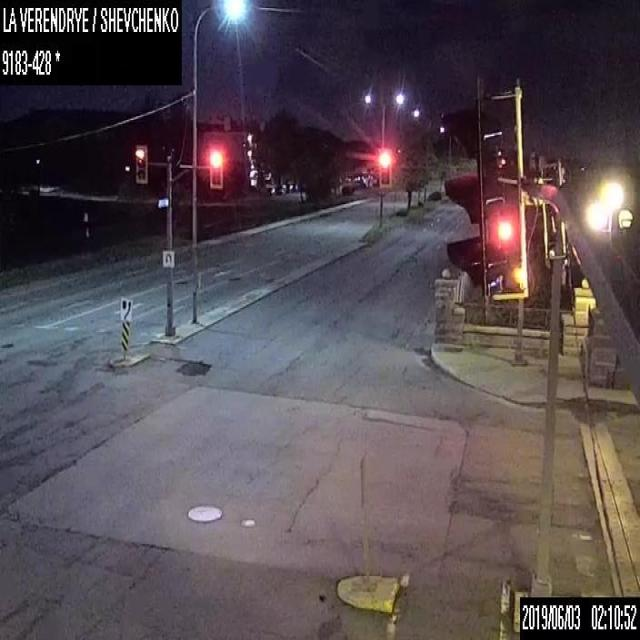vehicle: (276, 183, 285, 194)
